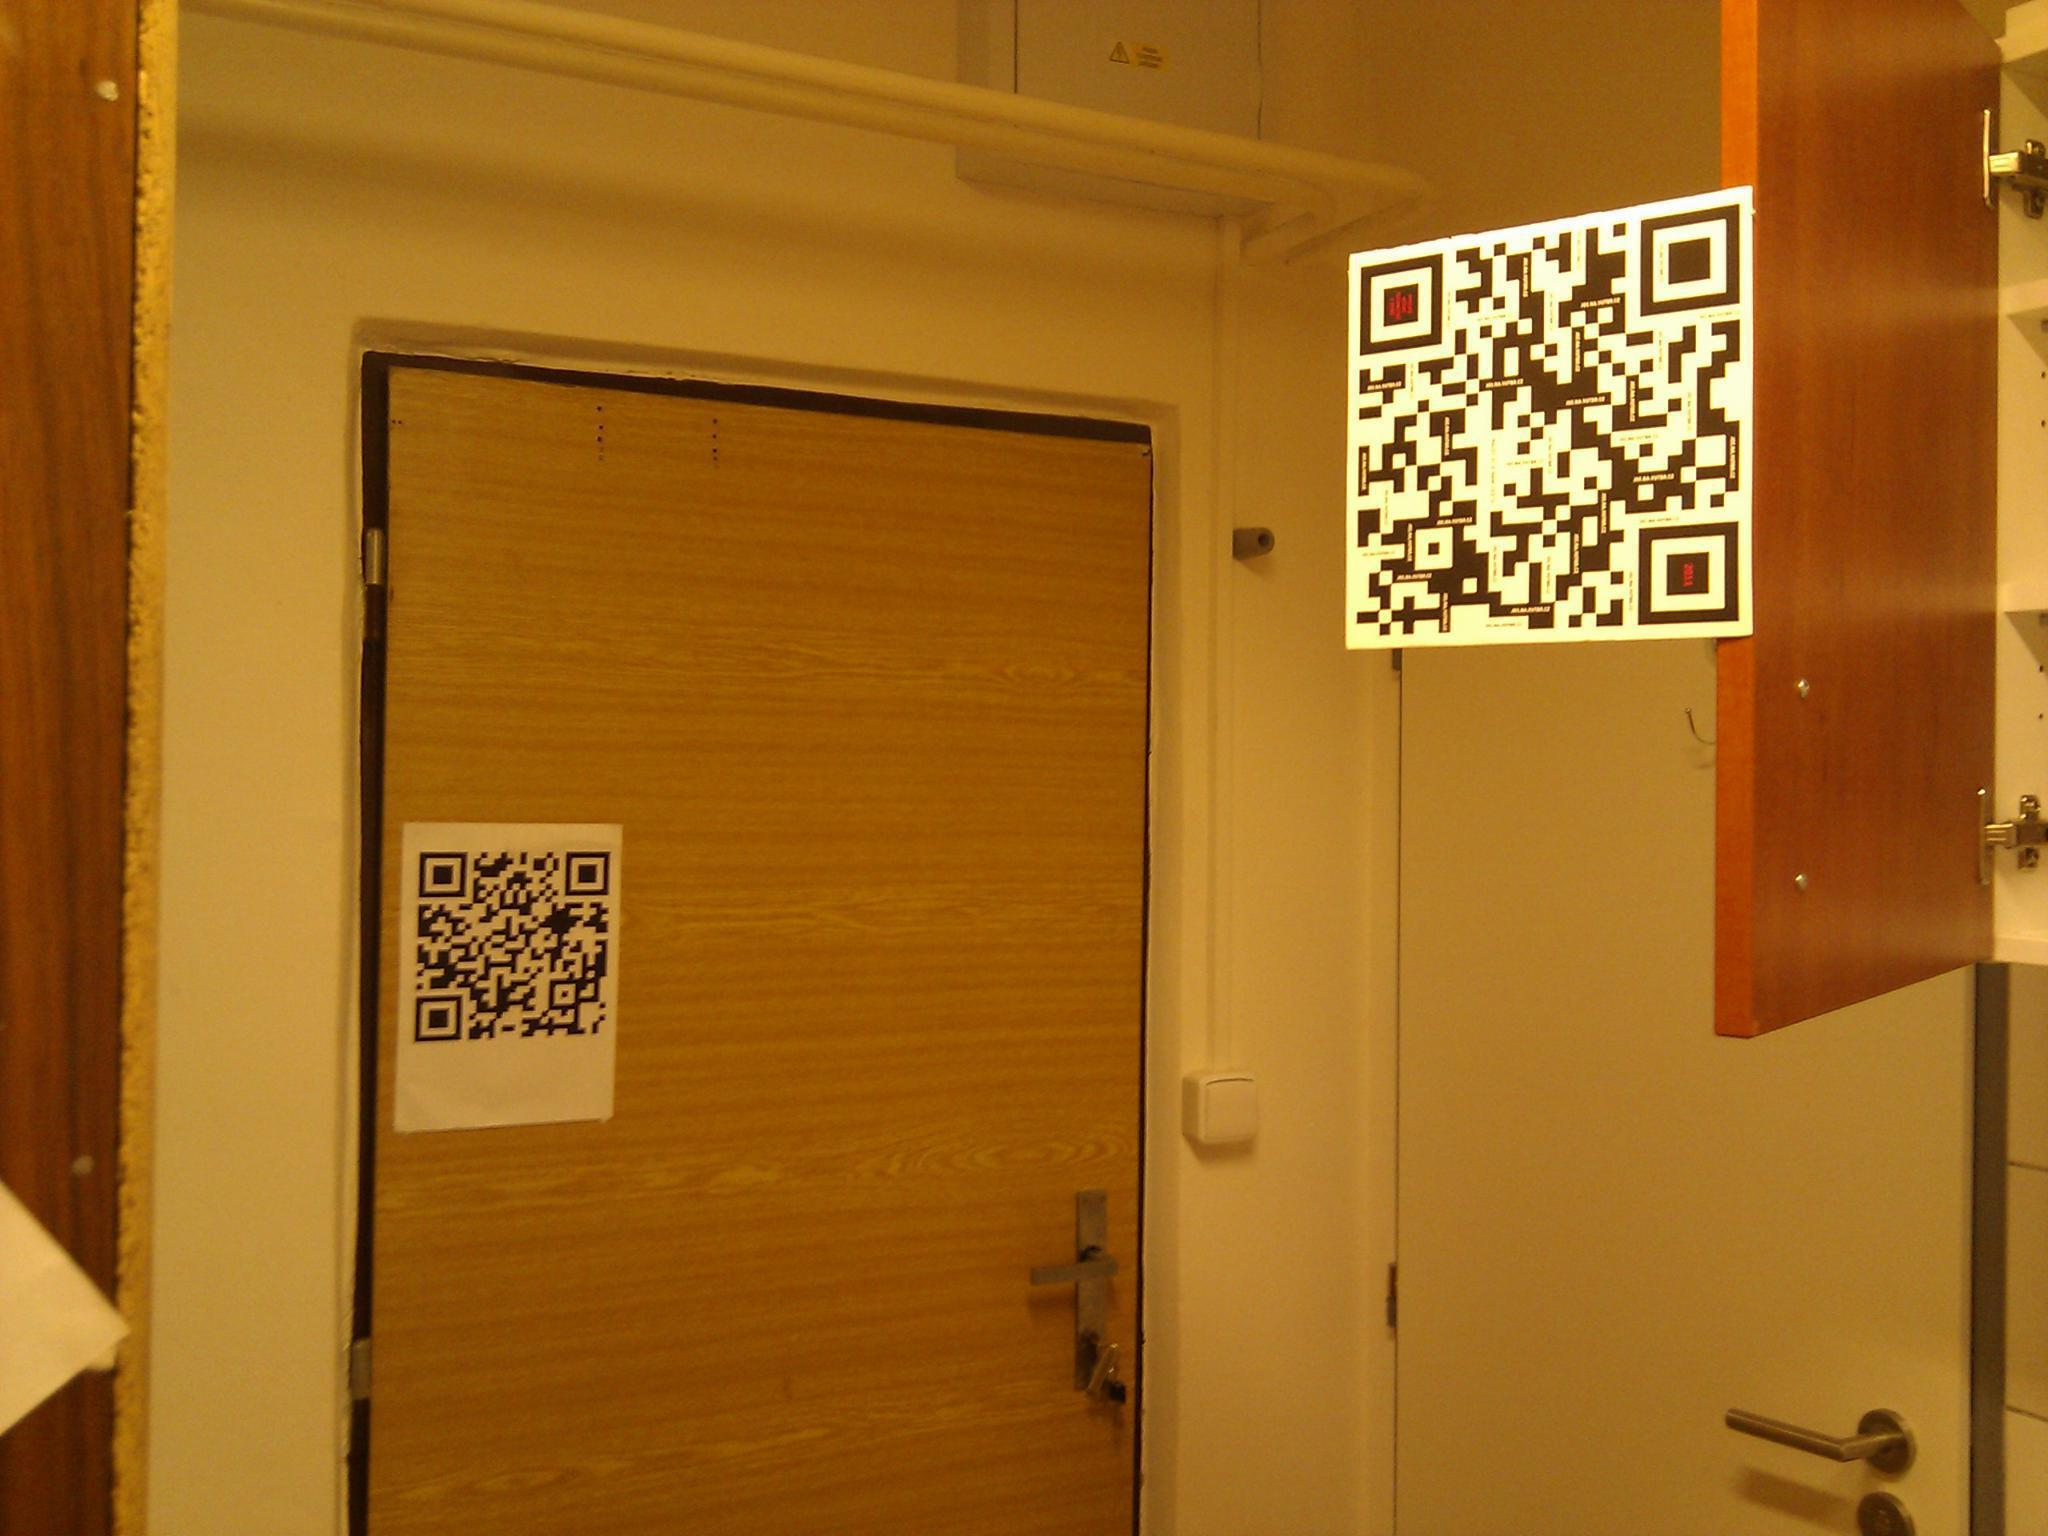qr_code: (1356, 205, 1740, 637), (413, 852, 610, 1044)
